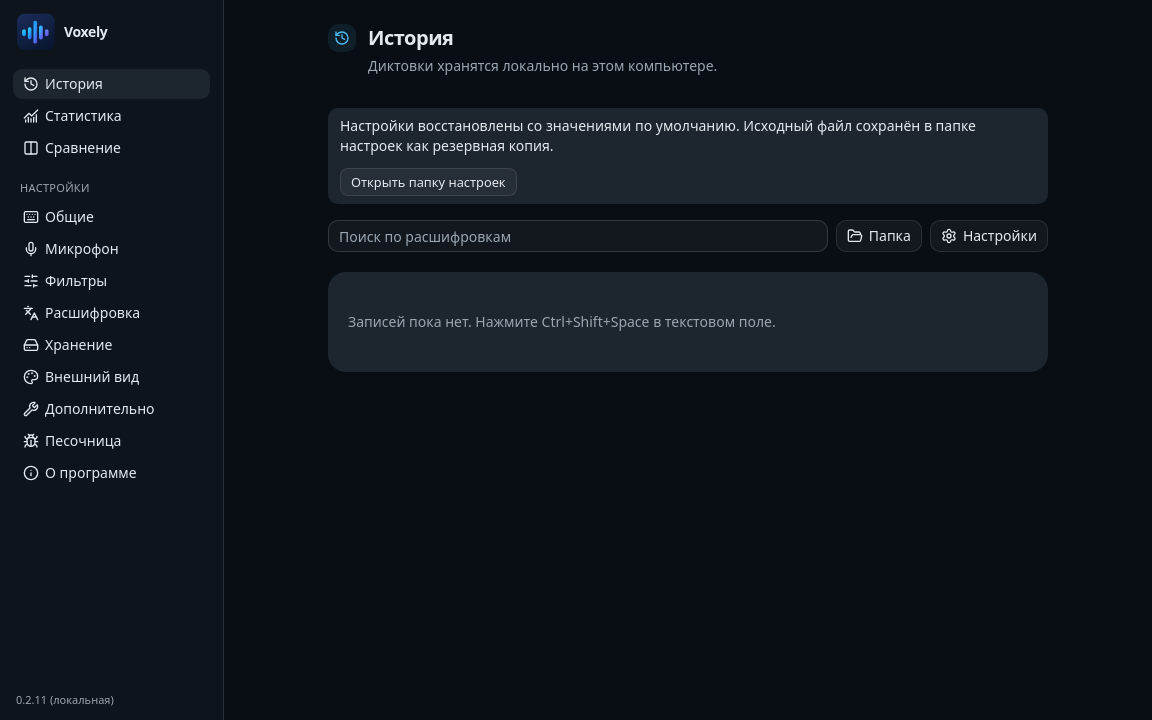
Test: MainApp › keeps the recovered-settings warning after an ordinary settings save
The width and height of the screenshot is (1152, 720).
Expected: the heading "История" is shown, x1=368 y1=24 x2=453 y2=52
Expected: the text "Настройки восстановлены со значениями по умолчанию" is shown, x1=340 y1=116 x2=976 y2=155
Click the button "Общие" at [112, 216], box x1=12 y1=200 x2=211 y2=232
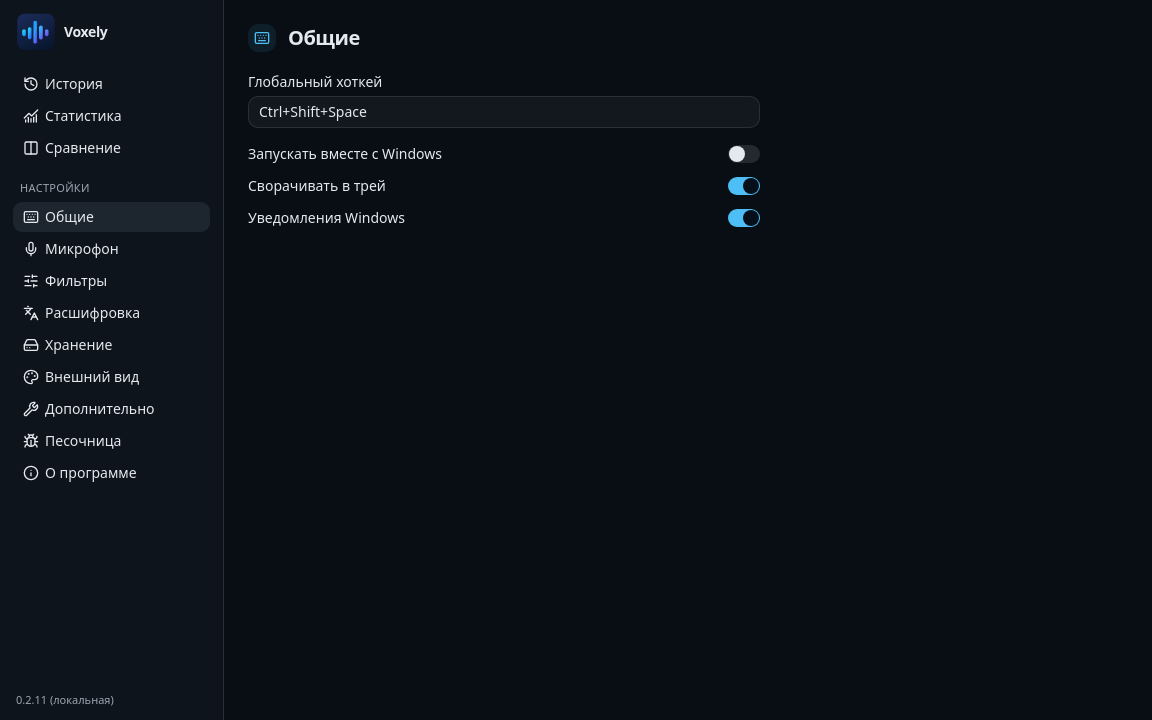
Click the switch named "Запускать вместе с Windows" in the row of "Запускать вместе с Windows" at [744, 154], box x1=728 y1=145 x2=760 y2=163
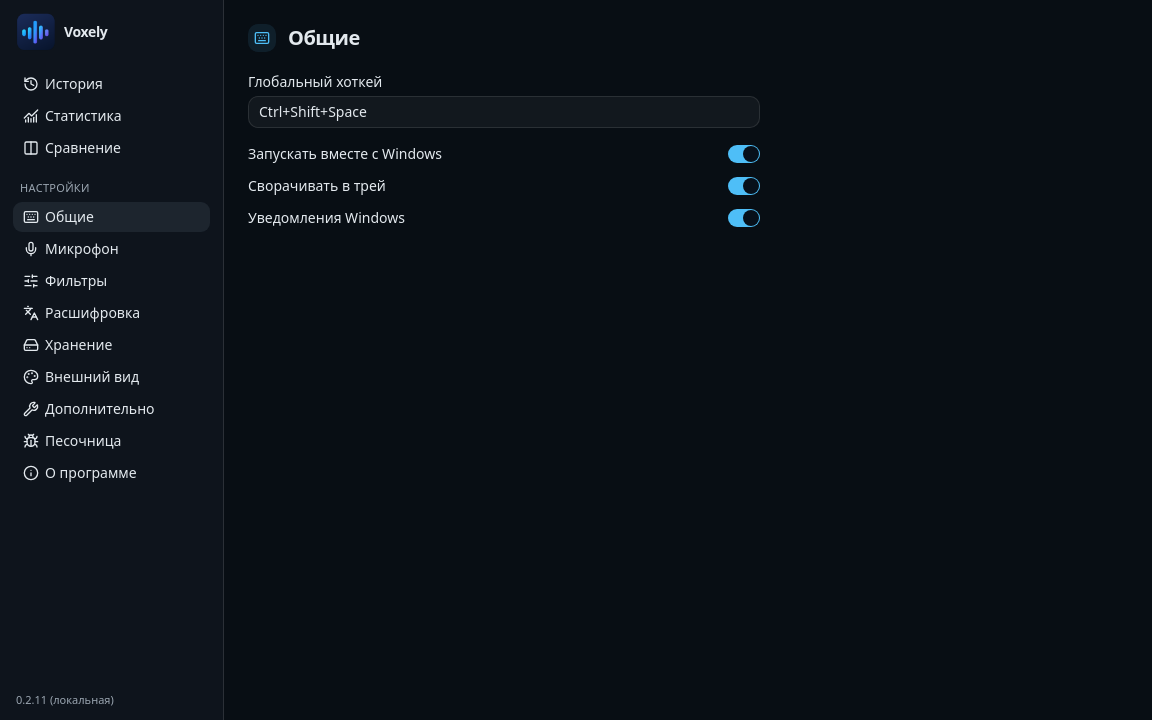
Click the button "История" at [112, 84], box x1=12 y1=68 x2=211 y2=100
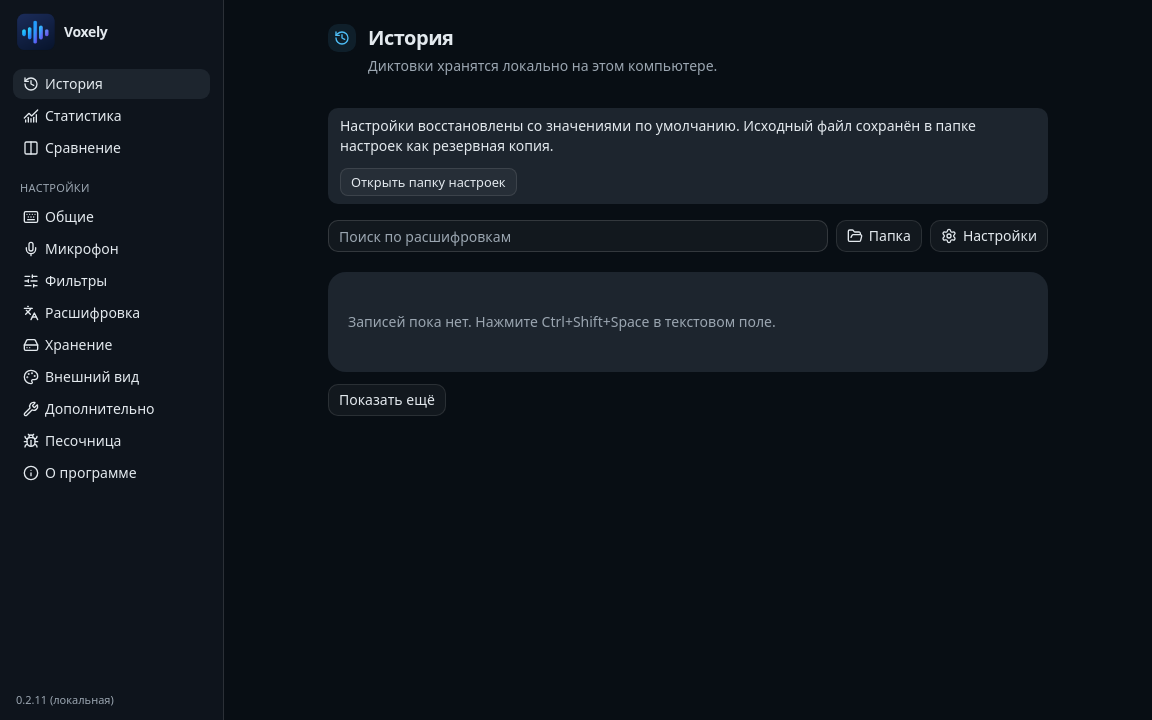
Expected: the text "Настройки восстановлены со значениями по умолчанию" is shown, x1=340 y1=116 x2=976 y2=155
